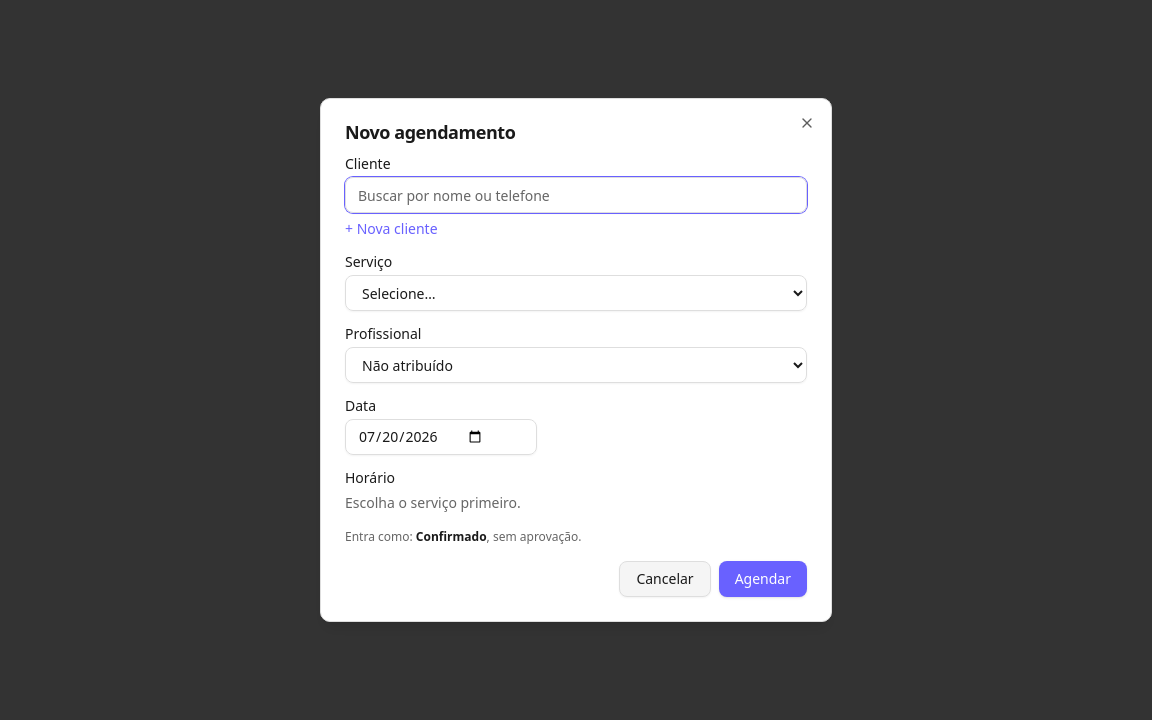
Test: NovoAgendamento › cadastra cliente inline e a seleciona (FR-D7)
Expected: the heading "Novo agendamento" is shown, top-left (345, 120), bottom-right (515, 144)
Click the button "+ Nova cliente" at (391, 229), box top-left (345, 219), bottom-right (438, 239)
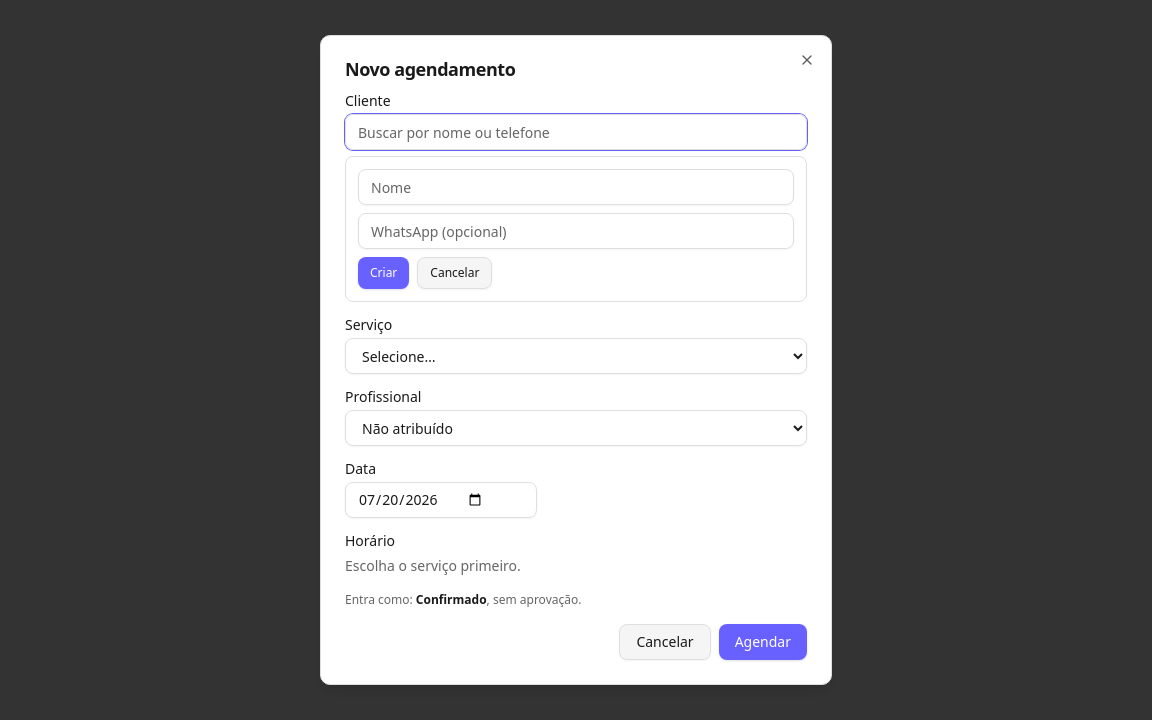
Type "Carla Nova" into the field named "Nome da nova cliente" at (576, 187), box top-left (358, 169), bottom-right (794, 205)
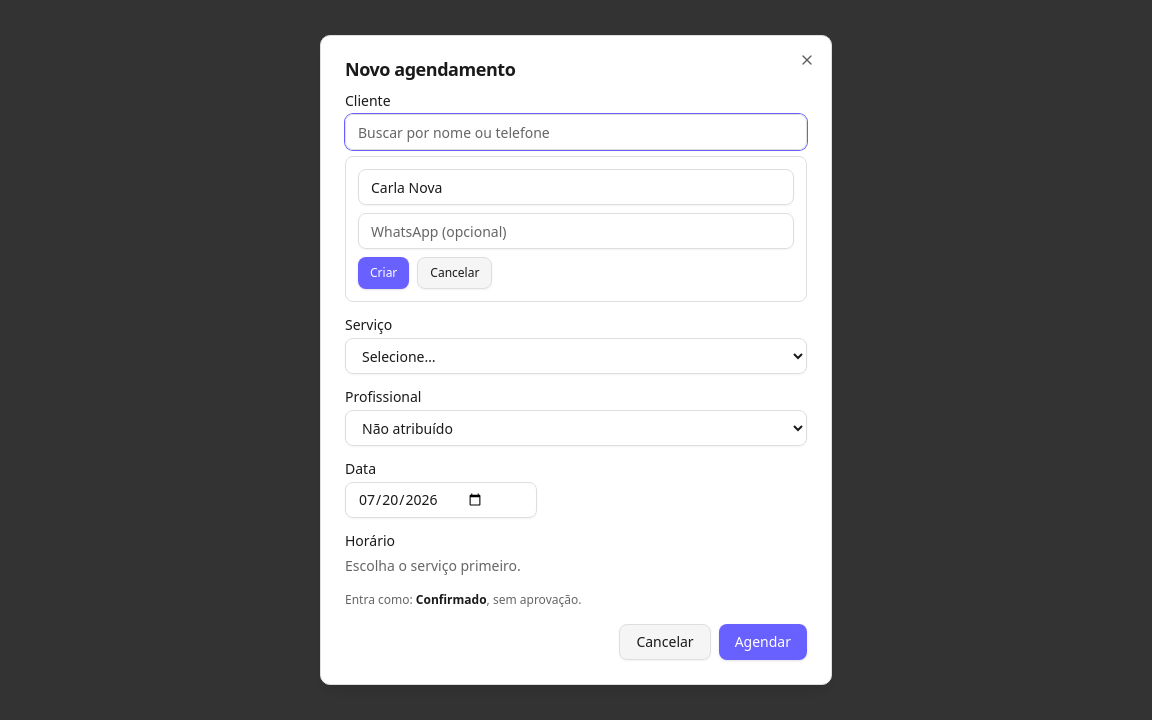
Click the button "Criar" at (384, 273), box top-left (358, 257), bottom-right (409, 289)
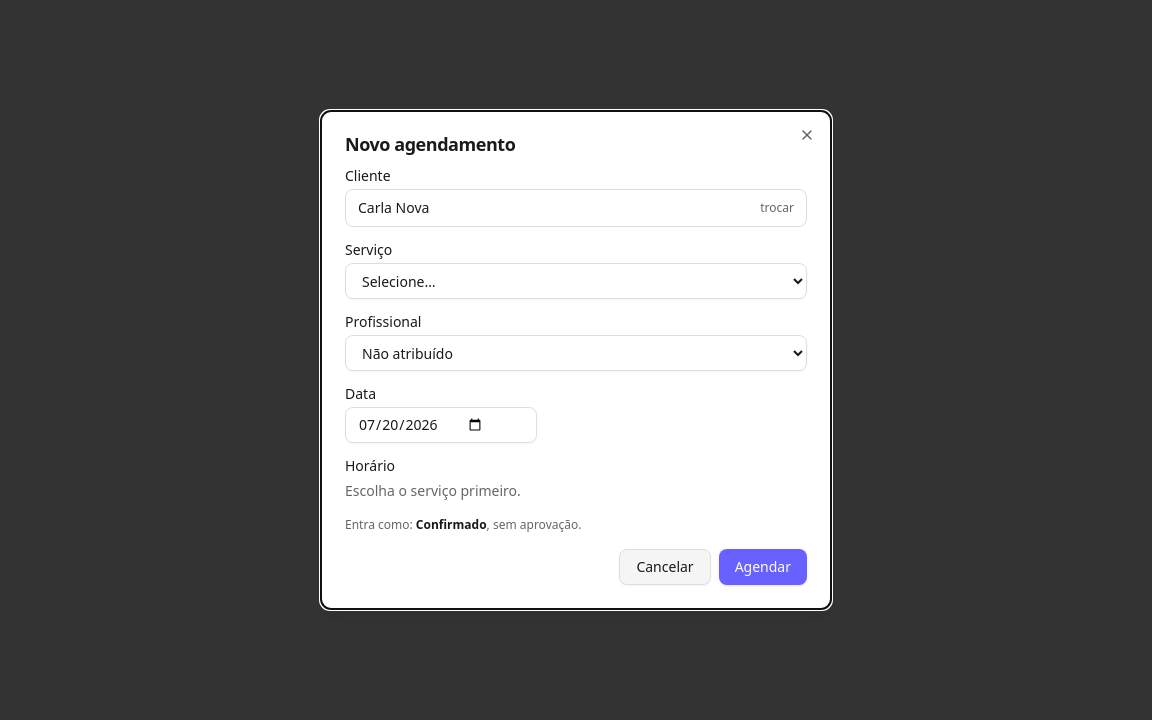
Expected: the text "Carla Nova" is shown, top-left (358, 198), bottom-right (429, 218)
Expected: the button "trocar" is shown, top-left (760, 200), bottom-right (794, 216)
